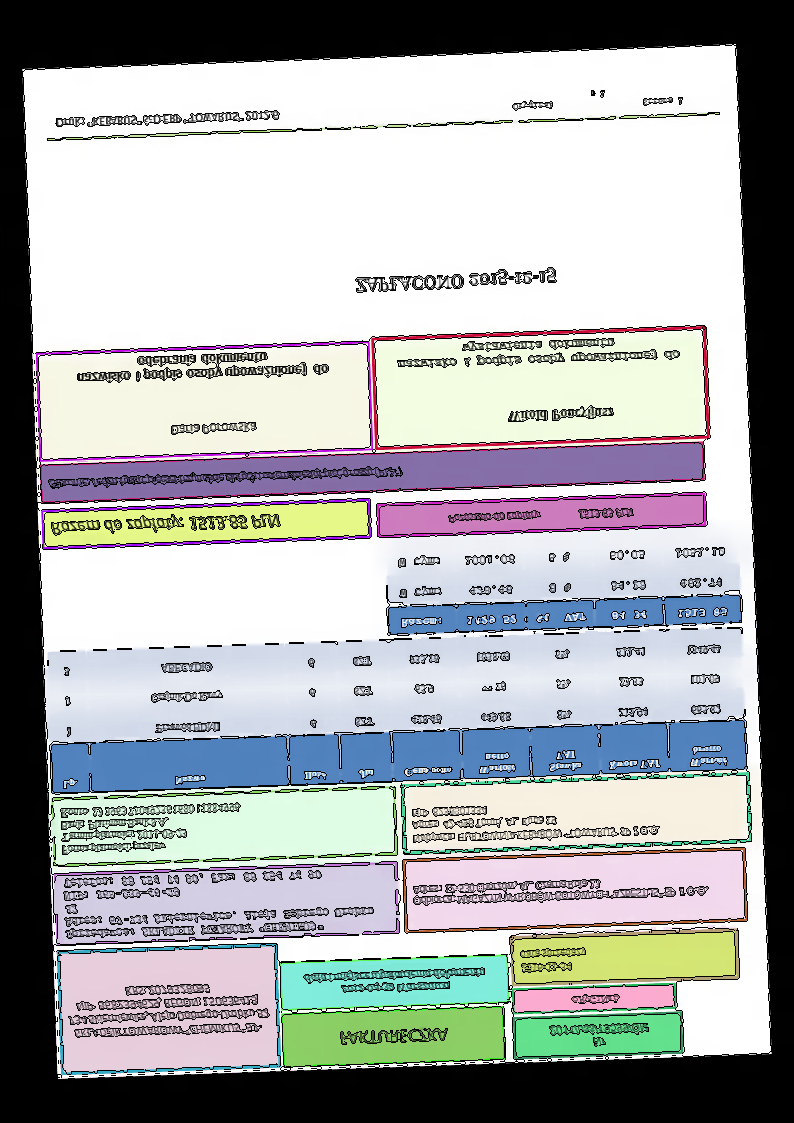Table: (45, 626, 748, 796), (382, 532, 744, 636)
TextBox: (60, 866, 378, 944), (65, 978, 271, 1043), (409, 799, 661, 846), (45, 462, 403, 495), (393, 333, 680, 372), (56, 801, 244, 859), (411, 873, 710, 908), (72, 347, 331, 385), (47, 512, 282, 542), (52, 107, 284, 134), (351, 265, 559, 295), (301, 965, 489, 998), (510, 85, 687, 112), (444, 506, 635, 527), (546, 1020, 651, 1052), (336, 1024, 452, 1049), (504, 404, 618, 426), (518, 945, 588, 976), (167, 419, 260, 441), (569, 993, 622, 1008)
